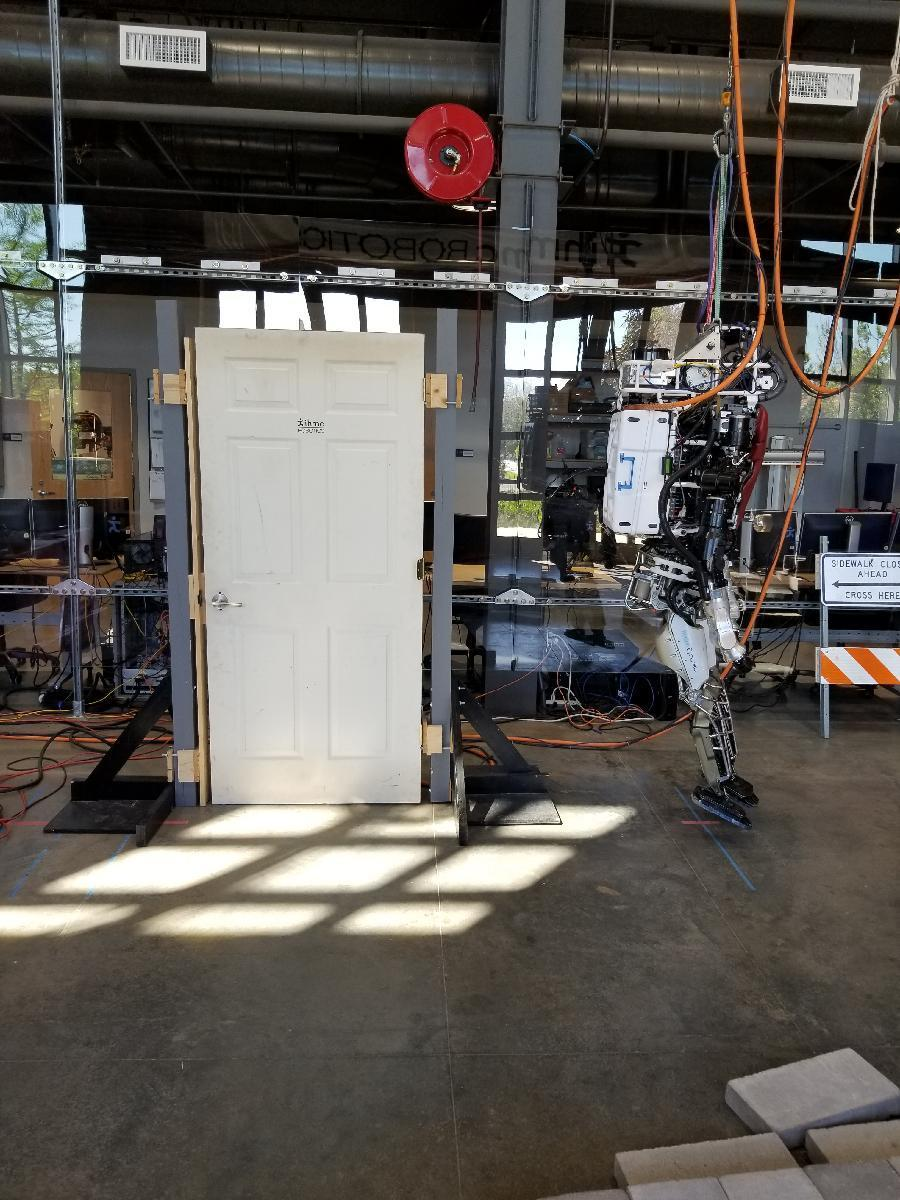door: (193, 328, 428, 809)
handle: (208, 592, 241, 613)
